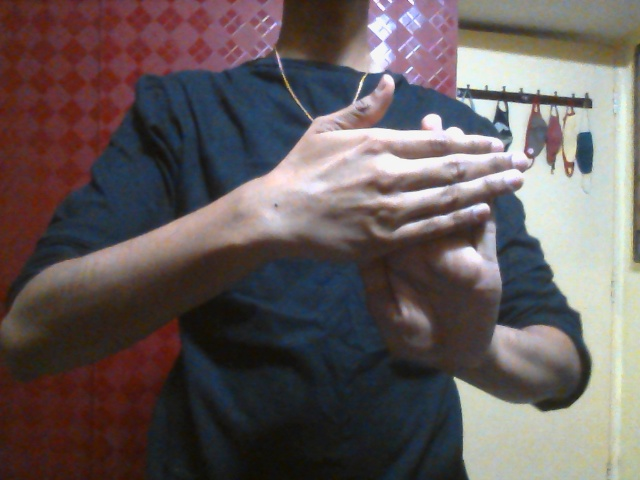H: (276, 74, 529, 369)
